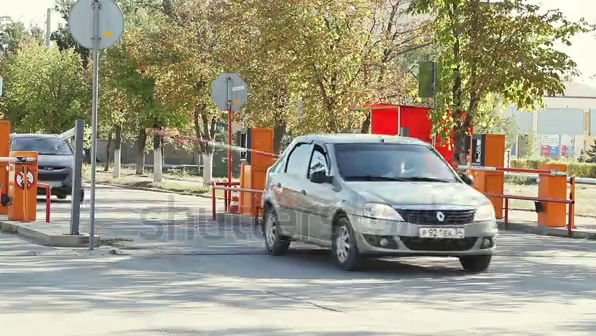licenseplate: (417, 229, 461, 240), (38, 177, 61, 191)
